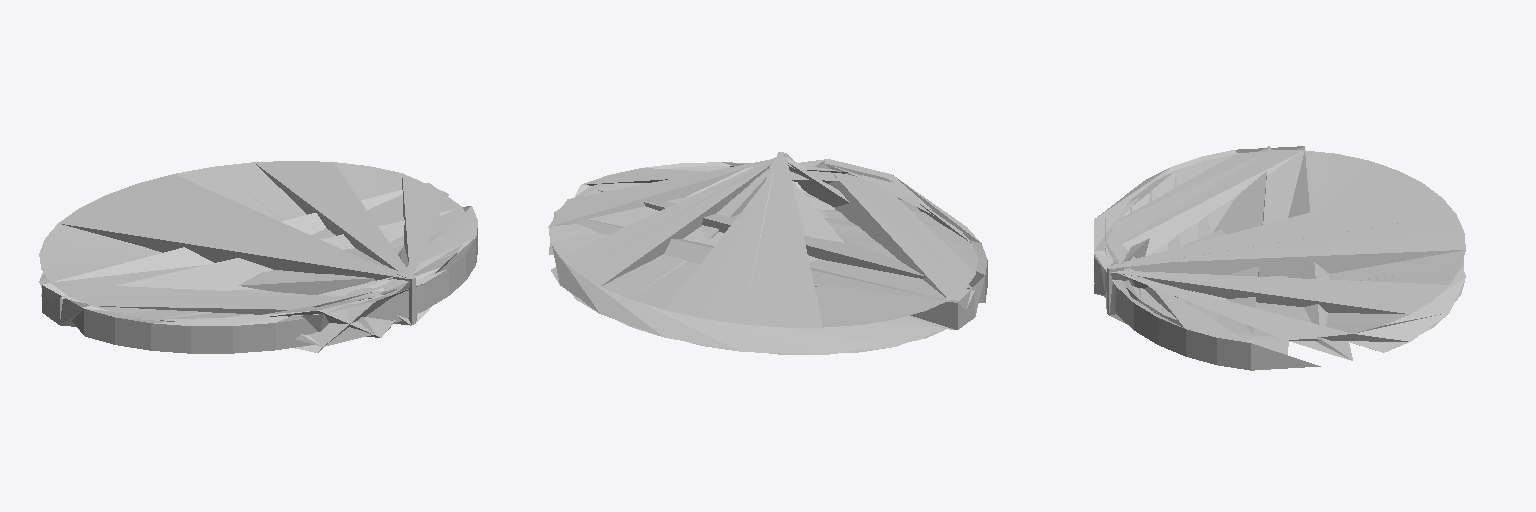
The model's file is Dog collar.obj.
3 renders of one model, left to right at view 1: azimuth 30°, elevation 25°; view 2: azimuth 150°, elevation 25°; view 3: azimuth 270°, elevation 25°, orthographic.
Visible parts, largest first — view 1: Cylinder001; view 2: Cylinder001; view 3: Cylinder001.
Boxes of the visible parts, <box> form: Cylinder001: <box>39,161,477,353</box>; Cylinder001: <box>548,153,987,354</box>; Cylinder001: <box>1094,146,1465,370</box>.
Bounding box in the file's own units: 3275156 × 358304 × 2613750.